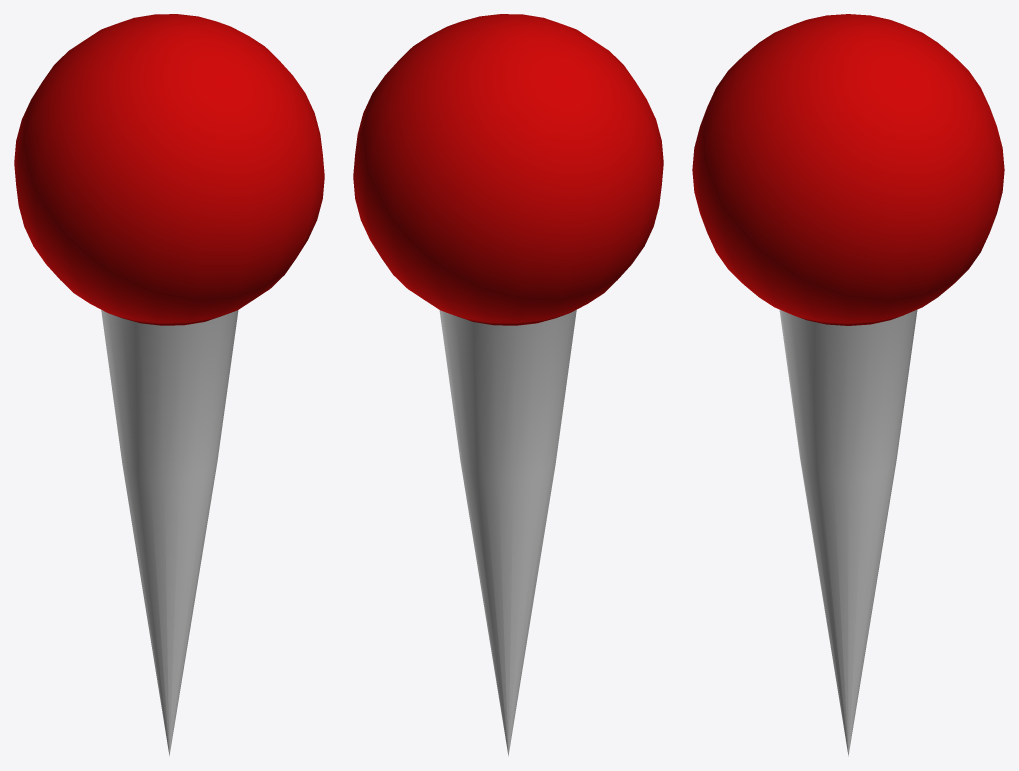
File: Waypoint.fbx
3 renders of one model, left to right at view 1: azimuth 30°, elevation 25°; view 2: azimuth 150°, elevation 25°; view 3: azimuth 270°, elevation 25°, orthographic.
Visible parts, largest first — view 1: pSphere1; view 2: pSphere1; view 3: pSphere1.
Boxes of the visible parts, x1,y1,x2,y2 form: pSphere1: [14, 14, 324, 756]; pSphere1: [353, 14, 663, 756]; pSphere1: [692, 14, 1004, 756].
Bounding box in the file's own units: 0.3429 × 0.8827 × 0.3429.
